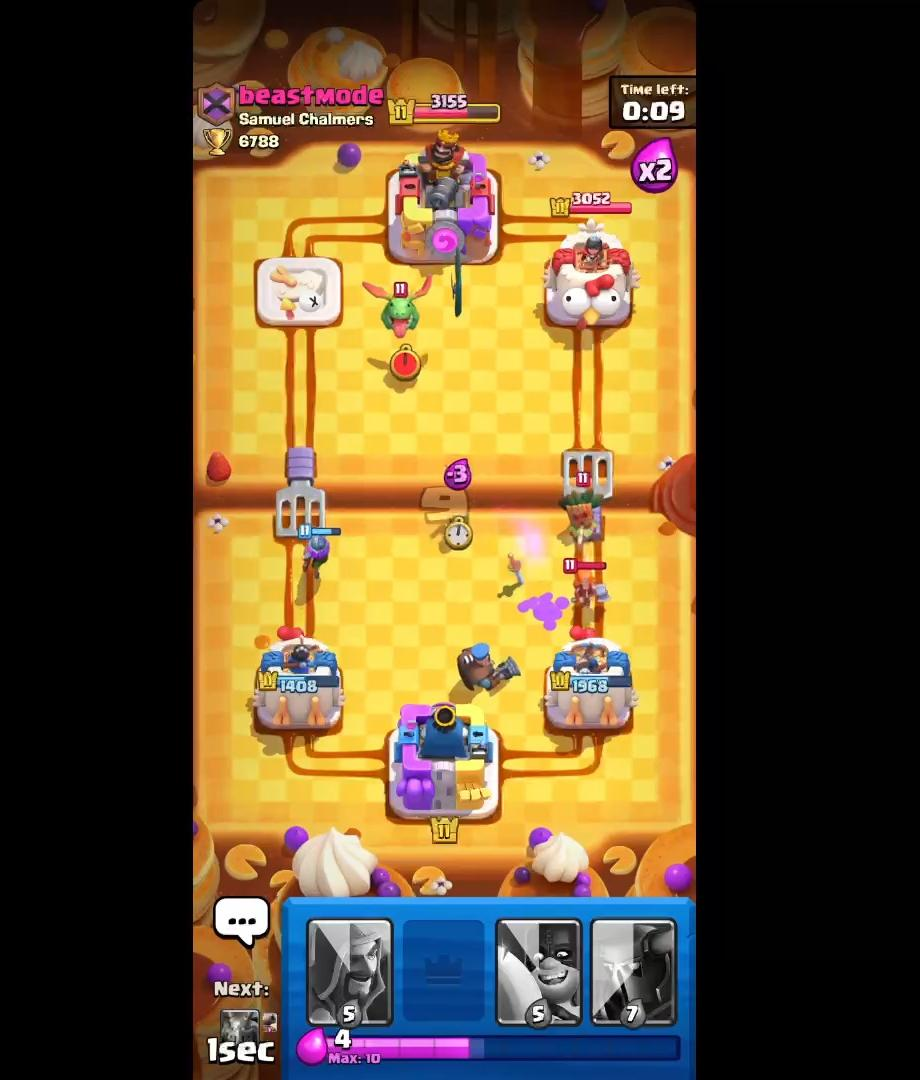Baby Dragon: (357, 274, 434, 351)
Dart Goblin: (558, 470, 615, 538)
Valkyrie: (563, 559, 610, 610)
